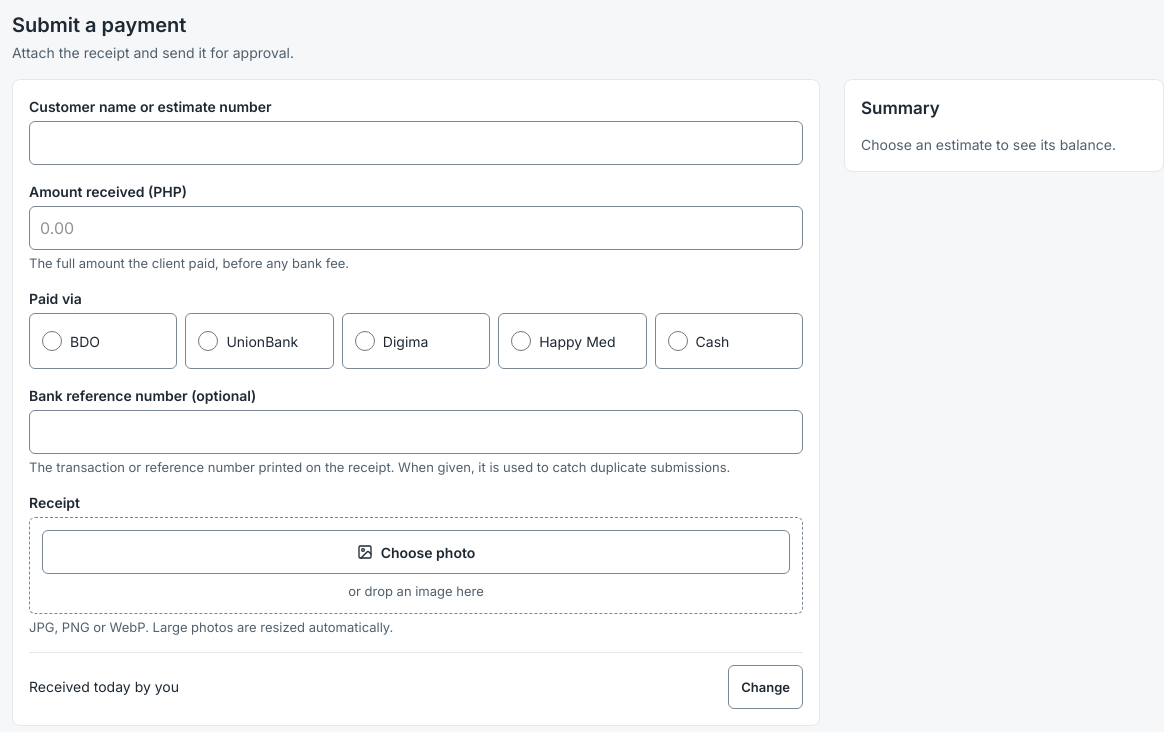
SubmitPaymentPage › hides the reference number for cash only
Expected: the field labelled "Bank reference number (optional)" is shown, [29, 410, 803, 454]
Click the radio button labelled "Cash" at (678, 341), box [668, 331, 688, 351]
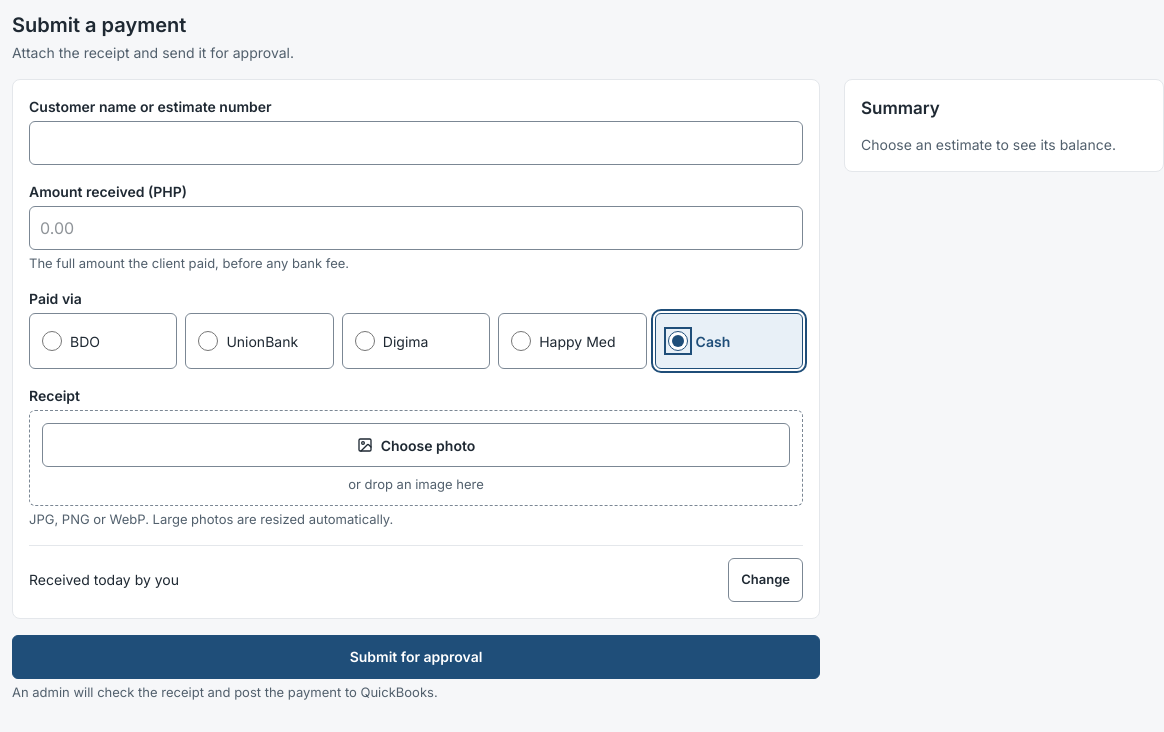
Expected: the label labelled "Bank reference number" is gone
Click the radio button labelled "BDO" at (52, 341), box [42, 331, 62, 351]
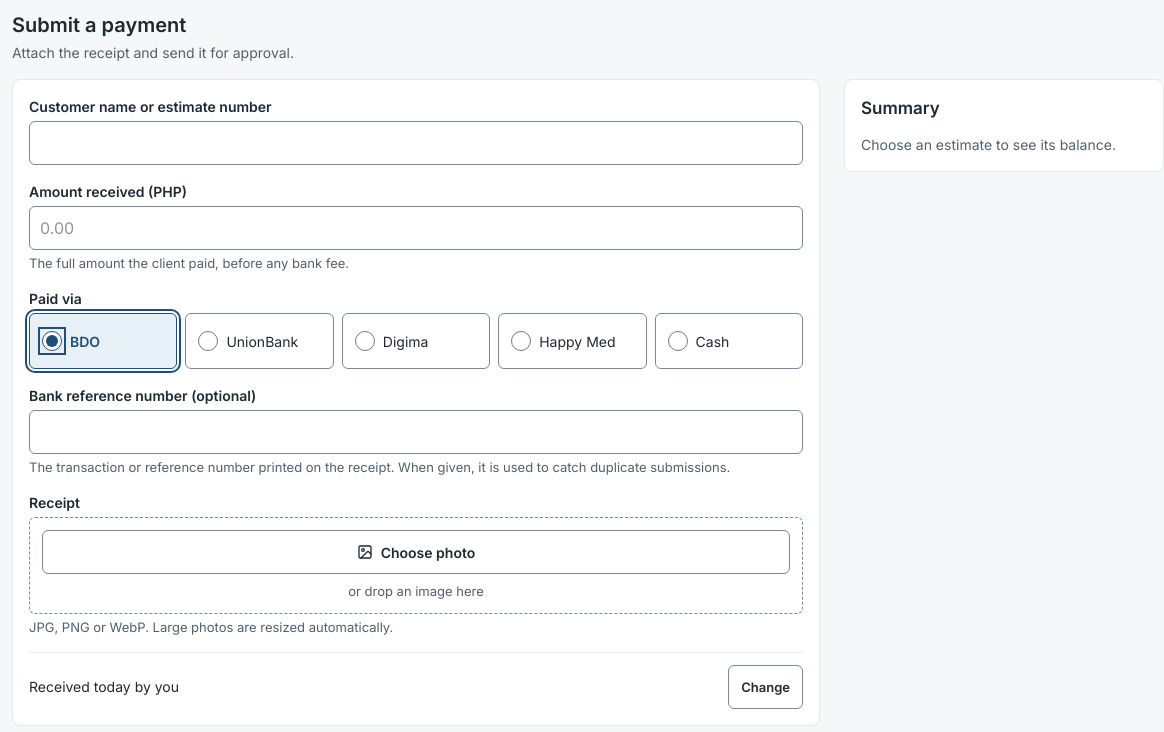
Expected: the field labelled "Bank reference number (optional)" is shown, [29, 410, 803, 454]
